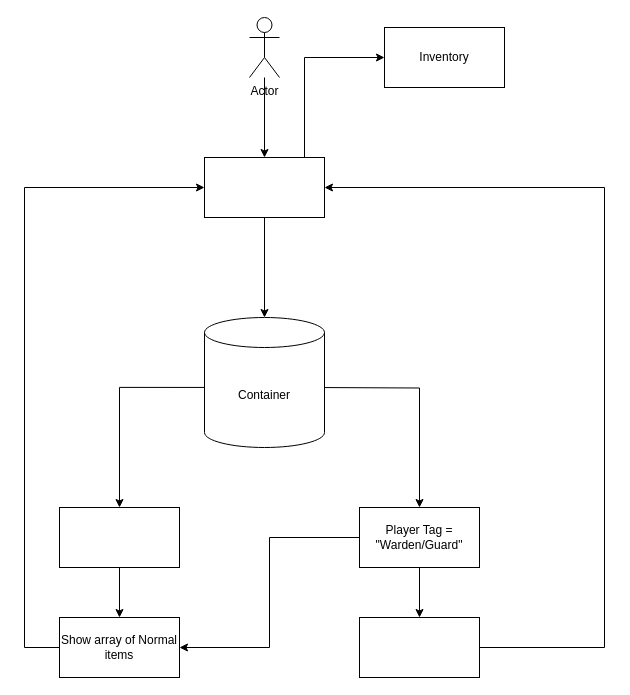
Image size: 630x695. Some labels were removed from this diagram. Each missing label, with the centre of its shape:
Player Tag != "Warden/Guard": point 119,537
Show array of Guard Items: point 419,647
UI: point 264,187
